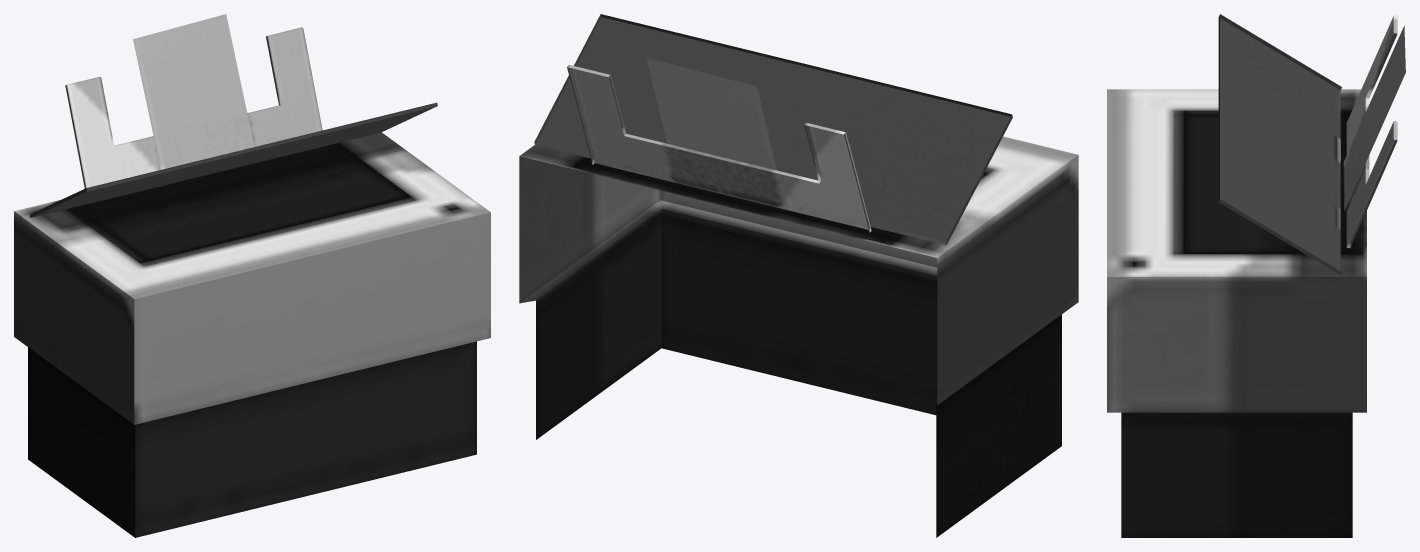
File: Tx_props_research_printer.fbx
3 views of the same model, side by side, from view 1: azimuth 30°, elevation 25°; view 2: azimuth 150°, elevation 25°; view 3: azimuth 270°, elevation 25° (orthographic). The views are drawn at different scales.
Parts seen in each view (by area): view 1: Tx_props_research_printer; view 2: Tx_props_research_printer; view 3: Tx_props_research_printer.
Part boxes in pixels (<box>): Tx_props_research_printer: <box>14,14,490,537</box>; Tx_props_research_printer: <box>519,14,1078,537</box>; Tx_props_research_printer: <box>1107,14,1405,537</box>.
Bounding box in the file's own units: 7.86 × 7.87 × 5.29.
